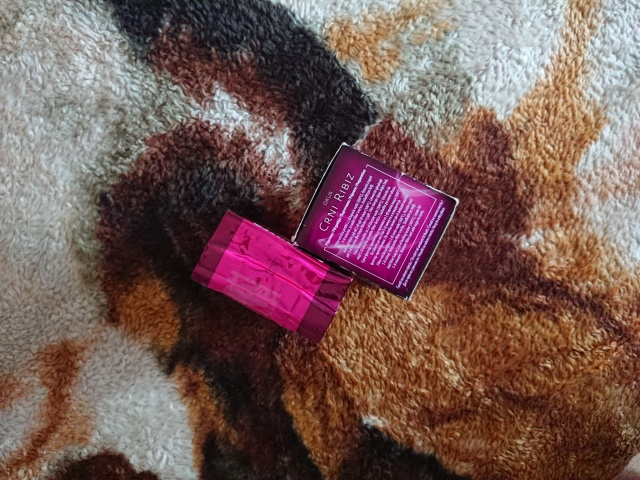Barcaffe Classic Original 225g: (186, 205, 356, 346)
Franck Black Currant Tea 60g: (287, 139, 463, 305)
